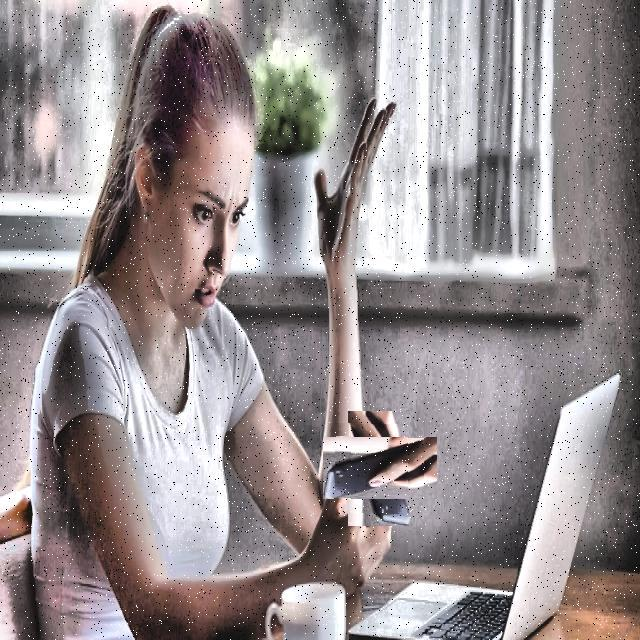Phone: (335, 424, 424, 513)
